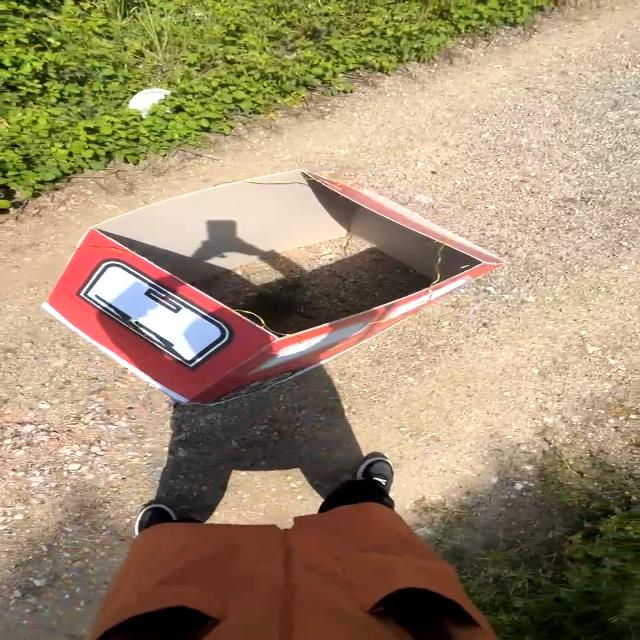red_car: (0, 146, 553, 428)
